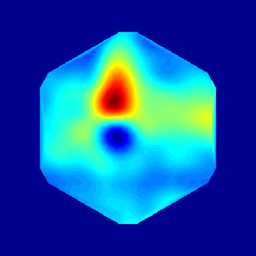ship: (105, 113, 124, 149)
wave: (103, 78, 124, 120)
